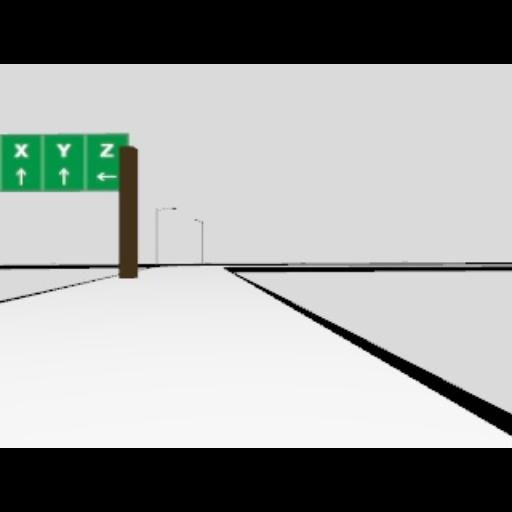Left: (95, 171, 117, 181)
Straight: (14, 166, 26, 184), (58, 166, 68, 184)
X: (13, 143, 27, 157)
Y: (56, 143, 70, 157)
Z: (99, 143, 113, 157)
